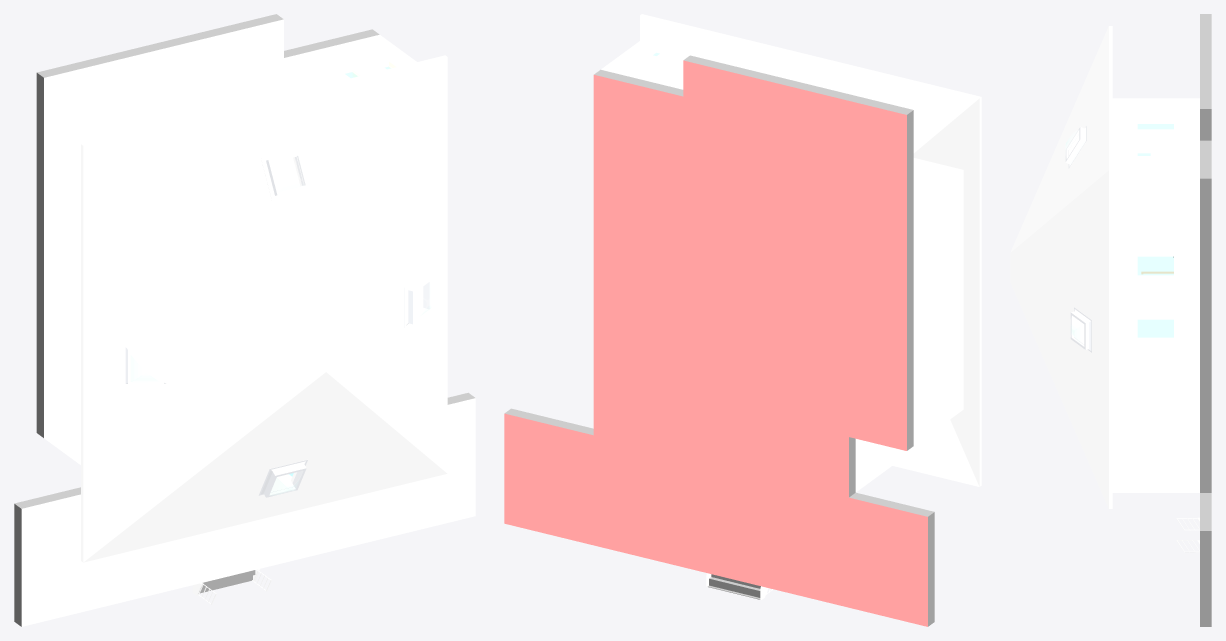
3 renders of one model, left to right at view 1: azimuth 30°, elevation 25°; view 2: azimuth 150°, elevation 25°; view 3: azimuth 270°, elevation 25°, orthographic. The views are drawn at different scales.
Visible parts, largest first — view 1: Shell (×12); view 2: Shell (×8); view 3: Shell (×11).
Part boxes in pixels (x1=…): Shell (×12): x1=14, y1=14, x2=475, y2=626; Shell (×8): x1=504, y1=14, x2=981, y2=626; Shell (×11): x1=1010, y1=14, x2=1211, y2=626.
Size of the model in its own units: 52.82 by 62.04 by 24.99.
